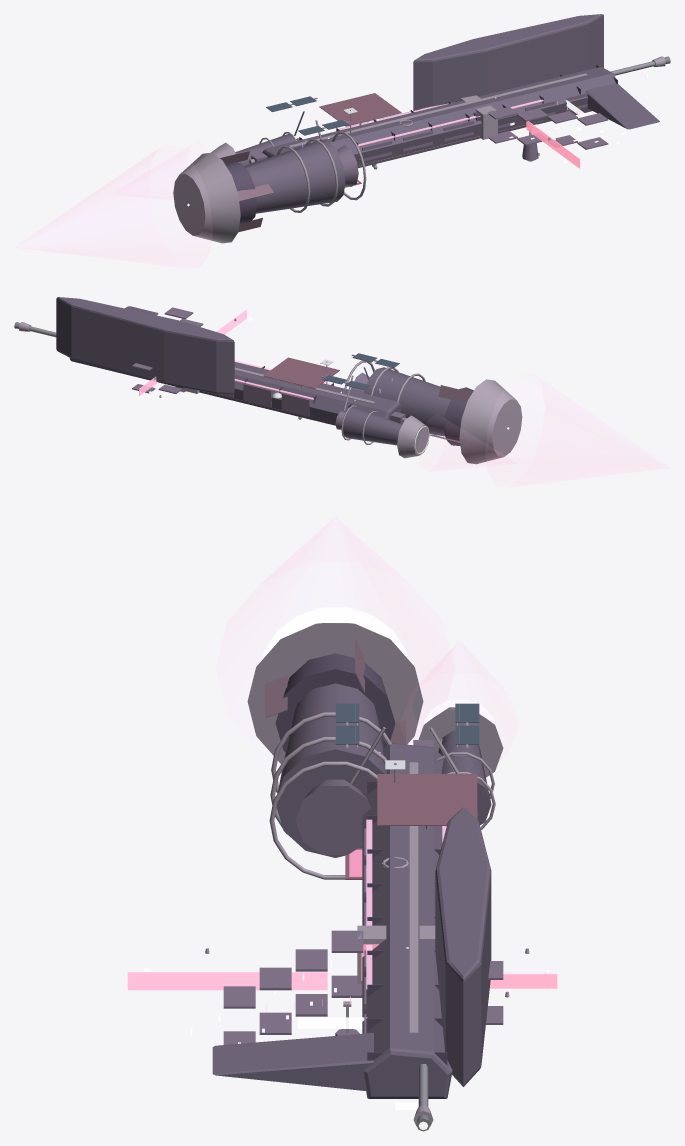
File: FRV_Outrider.glb
The picture shows the model from 3 angles, top to bottom: view 1: azimuth 30°, elevation 25°; view 2: azimuth 150°, elevation 25°; view 3: azimuth 270°, elevation 25°; orthographic projection. The views are drawn at different scales.
Visible parts, largest first — view 1: FRV_Outrider; view 2: FRV_Outrider; view 3: FRV_Outrider.
Boxes of the visible parts, x1=… form: FRV_Outrider: x1=16, y1=14, x2=670, y2=267; FRV_Outrider: x1=14, y1=297, x2=668, y2=486; FRV_Outrider: x1=127, y1=517, x2=557, y2=1131.
Size of the model in its own units: 36.6 by 5.85 by 10.75.
